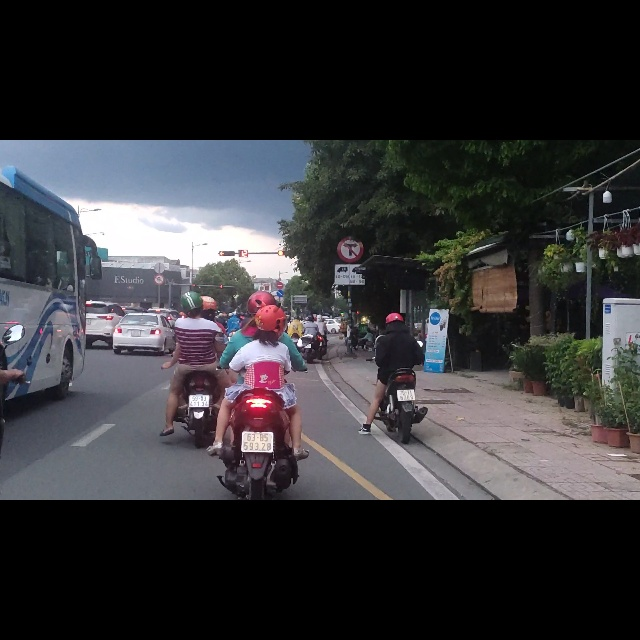bien_cam: (336, 169, 364, 220), (154, 237, 165, 258), (276, 266, 284, 280), (276, 252, 283, 265)
